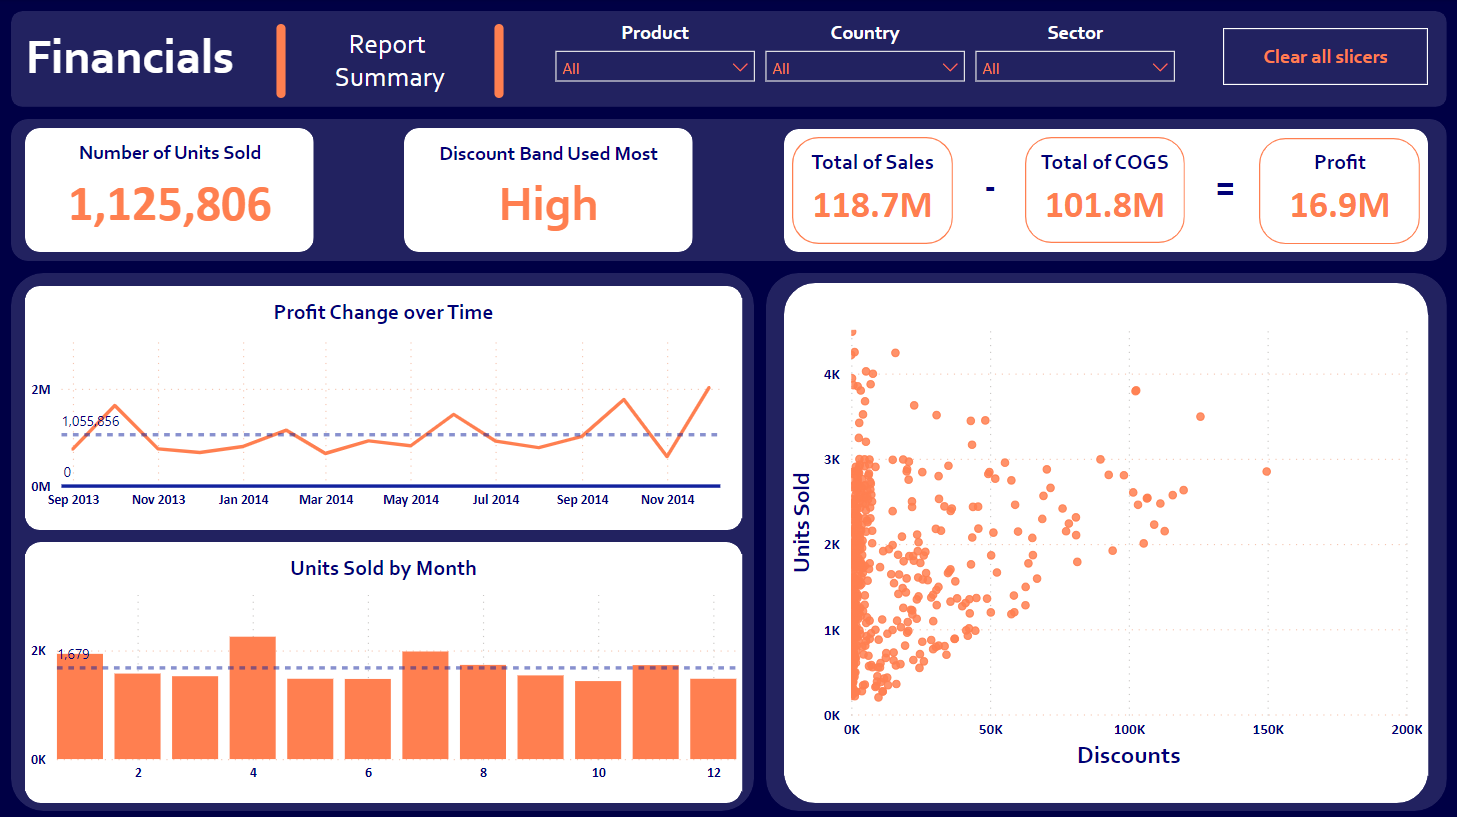

This screenshot's page, from the dashboard's own definition file:
{"tool":"powerbi","page":{"name":"Report Summary","canvas":[1280,720],"ordinal":0},"visuals":[{"type":"shape","box":[10.5,240.3,651.6,471.8],"z":1000},{"type":"shape","box":[672.6,240.3,597.2,471.8],"z":2000},{"type":"shape","box":[10.5,105.2,1259.3,124.5],"z":3000},{"type":"shape","box":[10.5,10.5,1259.3,84.2],"z":4000},{"type":"shape","box":[688.4,114,564.8,107.9],"z":5000},{"type":"shape","box":[355.2,113.1,253.4,108.7],"z":6000},{"type":"shape","box":[22.8,113.1,253.4,108.7],"z":7000},{"type":"shape","box":[688.4,249.1,564.8,456],"z":8000},{"type":"shape","box":[22.8,476.2,628.8,228.9],"z":9000},{"type":"shape","box":[22.8,251.7,628.8,214],"z":10000},{"type":"slicer","title":"Product","fields":{"Values":["financials.Product"]},"box":[478,18.4,194.7,70.2],"z":11000},{"type":"card","title":"Number of Units Sold","fields":{"Values":["Sum(financials.Units Sold)"]},"box":[35.1,123.7,229.8,86.8],"z":12000},{"type":"lineChart","title":"Profit Change over Time","fields":{"Y":["Sum(financials.Profit)"],"Category":["financials.Date.Variation.Date Hierarchy.Year","financials.Date.Variation.Date Hierarchy.Quarter","financials.Date.Variation.Date Hierarchy.Month","financials.Date.Variation.Date Hierarchy.Day"]},"box":[22.8,262.2,628.8,192.9],"z":13000},{"type":"clusteredColumnChart","title":"Units Sold by Month","fields":{"Category":["financials.Month Number"],"Y":["Avg(financials.Units Sold)"]},"box":[22.8,486.7,628.8,207.8],"z":14000},{"type":"card","title":"Total of Sales","fields":{"Values":["Sum(financials. Sales)"]},"box":[700.7,130.7,130.7,78.1],"z":15000},{"type":"card","title":"Total of COGS","fields":{"Values":["Sum(financials.COGS)"]},"box":[905,130.7,129.8,78.1],"z":16000},{"type":"card","title":"Profit","fields":{"Values":["Sum(financials.Profit)"]},"box":[1111.1,130.7,129.8,78.1],"z":17000},{"type":"card","title":"Discount Band Used Most","fields":{"Values":["financials.Top Discount Band for Card"]},"box":[366.6,124.5,230.6,87.7],"z":18000},{"type":"scatterChart","fields":{"X":["financials.Discounts"],"Y":["financials.Units Sold"]},"box":[688.4,277.1,564.8,404.3],"z":19000},{"type":"textbox","box":[18.4,19.3,210.5,63.1],"z":20000},{"type":"slicer","title":"Country","fields":{"Values":["financials.Country"]},"box":[662.1,18.4,194.7,70.2],"z":21000},{"type":"slicer","title":"Sector","fields":{"Values":["financials.Sector"]},"box":[846.3,18.4,194.7,70.2],"z":22000},{"type":"shape","box":[695.4,121,141.2,93.8],"z":23000},{"type":"textbox","box":[849.8,139.4,38.6,57],"z":24000},{"type":"textbox","box":[1054.1,139.4,42.1,57],"z":25000},{"type":"shape","box":[899.8,121,140.3,93],"z":26000},{"type":"shape","box":[1105,121.9,141.2,93],"z":27000},{"type":"actionButton","box":[1073.4,25.4,179.8,50],"z":28000},{"type":"shape","box":[210.5,21.9,73.7,64.9],"z":29000},{"type":"shape","box":[401.7,21.9,73.7,64.9],"z":30000},{"type":"textbox","box":[247.3,19.3,191.2,70.2],"z":31000}]}

Visuals, with their boxes in screenshot pixels (x1, y1, x2, y2), scaled from the page's 1280x720 canvas onto the 1457x817 screenshot:
shape: bbox=(12, 273, 754, 808)
shape: bbox=(766, 273, 1445, 808)
shape: bbox=(12, 119, 1445, 261)
shape: bbox=(12, 12, 1445, 107)
shape: bbox=(784, 129, 1426, 252)
shape: bbox=(404, 128, 693, 252)
shape: bbox=(26, 128, 314, 252)
shape: bbox=(784, 283, 1426, 800)
shape: bbox=(26, 540, 742, 800)
shape: bbox=(26, 286, 742, 528)
"Product" slicer: bbox=(544, 21, 766, 101)
"Number of Units Sold" card: bbox=(40, 140, 302, 239)
"Profit Change over Time" lineChart: bbox=(26, 298, 742, 516)
"Units Sold by Month" clusteredColumnChart: bbox=(26, 552, 742, 788)
"Total of Sales" card: bbox=(798, 148, 946, 237)
"Total of COGS" card: bbox=(1030, 148, 1178, 237)
"Profit" card: bbox=(1265, 148, 1412, 237)
"Discount Band Used Most" card: bbox=(417, 141, 680, 241)
scatterChart - financials.Discounts x financials.Units Sold: bbox=(784, 314, 1426, 773)
textbox: bbox=(21, 22, 261, 94)
"Country" slicer: bbox=(754, 21, 975, 101)
"Sector" slicer: bbox=(963, 21, 1185, 101)
shape: bbox=(792, 137, 952, 244)
textbox: bbox=(967, 158, 1011, 223)
textbox: bbox=(1200, 158, 1248, 223)
shape: bbox=(1024, 137, 1184, 243)
shape: bbox=(1258, 138, 1419, 244)
actionButton: bbox=(1222, 29, 1426, 86)
shape: bbox=(240, 25, 323, 98)
shape: bbox=(457, 25, 541, 98)
textbox: bbox=(281, 22, 499, 102)
